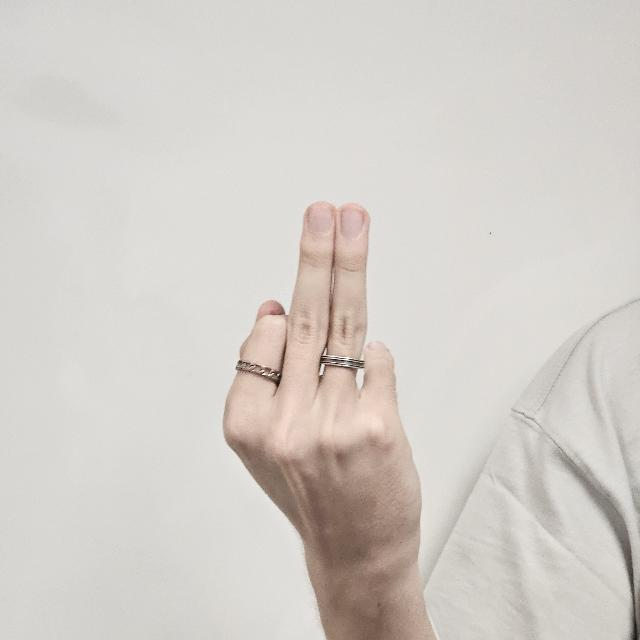R: (225, 199, 423, 595)
